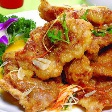guobaorou: (1, 2, 112, 110)
